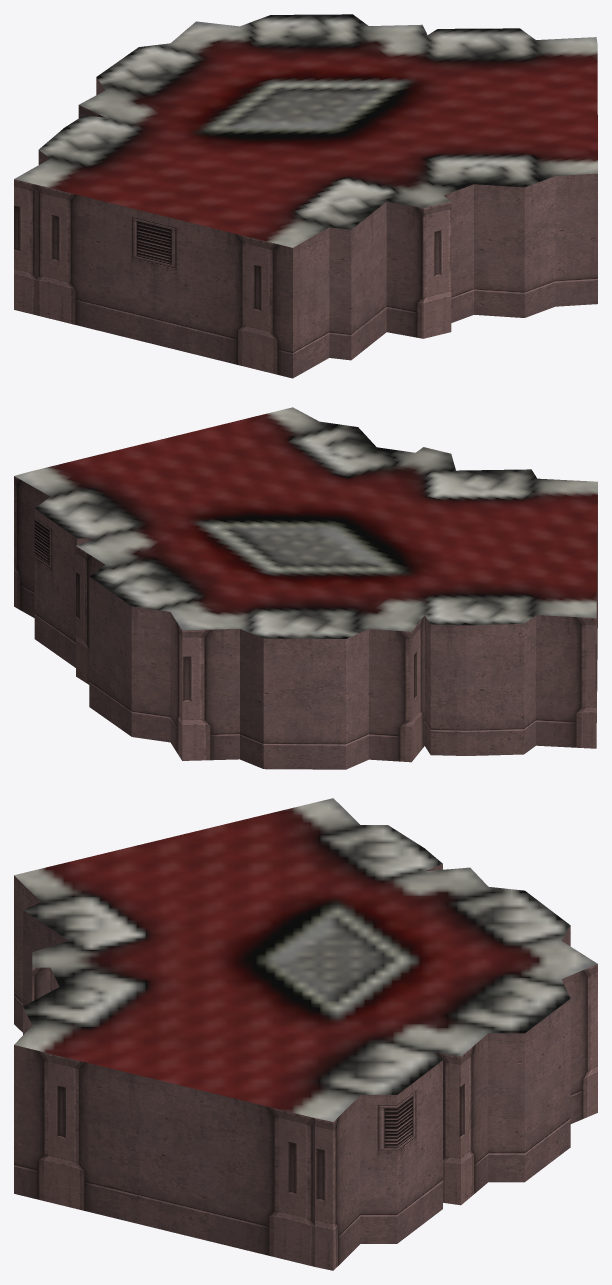
File: hardened_roof20.glb
3 views of the same model, one above another, from view 1: azimuth 30°, elevation 25°; view 2: azimuth 150°, elevation 25°; view 3: azimuth 270°, elevation 25° (orthographic). The views are drawn at different scales.
Visible parts, largest first — view 1: buildings/saxarba/hard/hardened_roof20; view 2: buildings/saxarba/hard/hardened_roof20; view 3: buildings/saxarba/hard/hardened_roof20.
Boxes of the visible parts, <box> form: buildings/saxarba/hard/hardened_roof20: <box>14,14,597,378</box>; buildings/saxarba/hard/hardened_roof20: <box>14,407,597,769</box>; buildings/saxarba/hard/hardened_roof20: <box>14,798,597,1270</box>.
Bounding box in the file's own units: 84 × 18 × 64.
